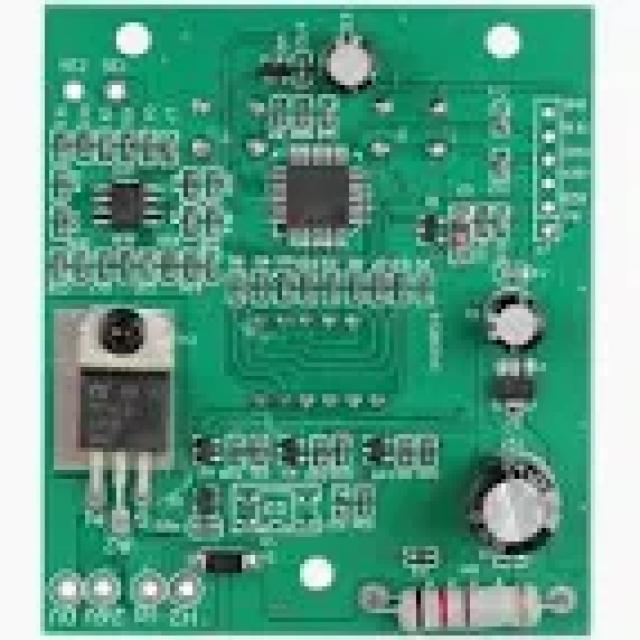pcb: (36, 0, 595, 636)
